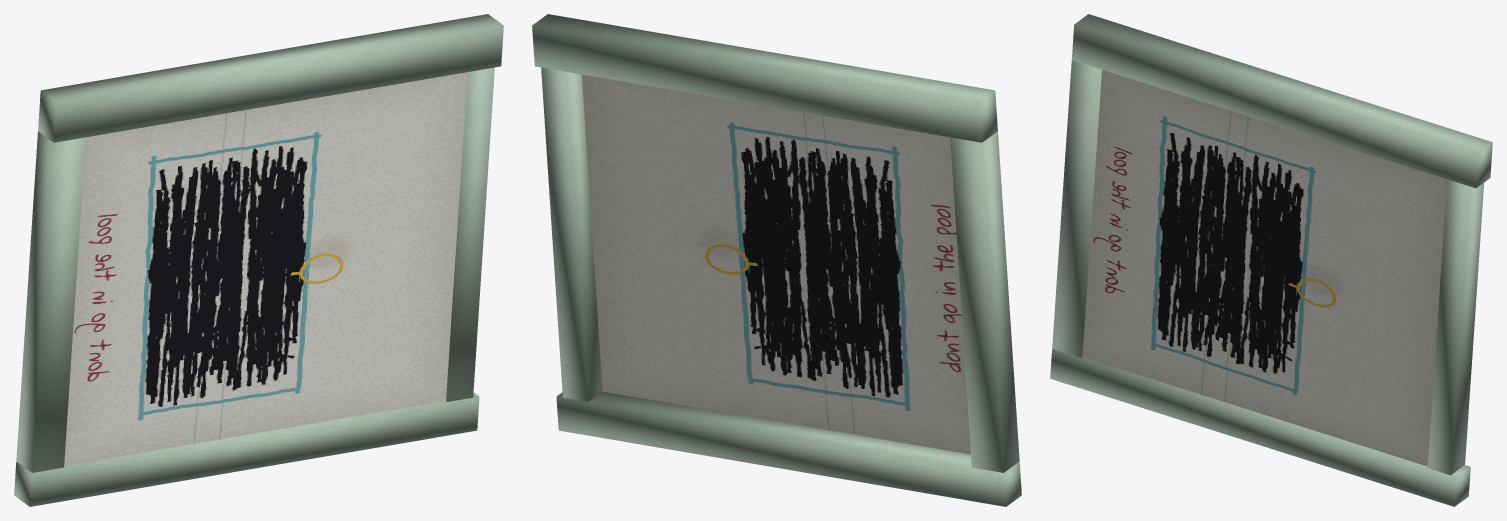
Rendered from Cadre_pool.glb.
3 renders of one model, left to right at view 1: azimuth 30°, elevation 25°; view 2: azimuth 150°, elevation 25°; view 3: azimuth 330°, elevation 25°, orthographic. The views are drawn at different scales.
Visible parts, largest first — view 1: Dessin, Cadre; view 2: Dessin, Cadre; view 3: Dessin, Cadre.
Boxes of the visible parts, bbox=[...] form: Dessin: bbox=[64, 72, 467, 465]; Cadre: bbox=[14, 14, 503, 506]; Dessin: bbox=[582, 74, 970, 454]; Cadre: bbox=[532, 14, 1021, 506]; Dessin: bbox=[1082, 70, 1447, 466]; Cadre: bbox=[1050, 14, 1492, 506].
Size of the model in its own units: 0.5179 by 0.4502 by 0.03.
Materials: 2 (2 with a texture image).
